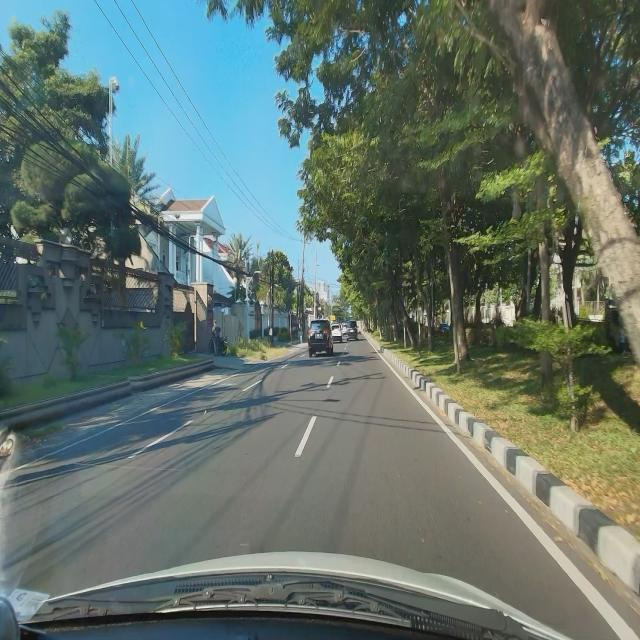car: (306, 318, 334, 359)
